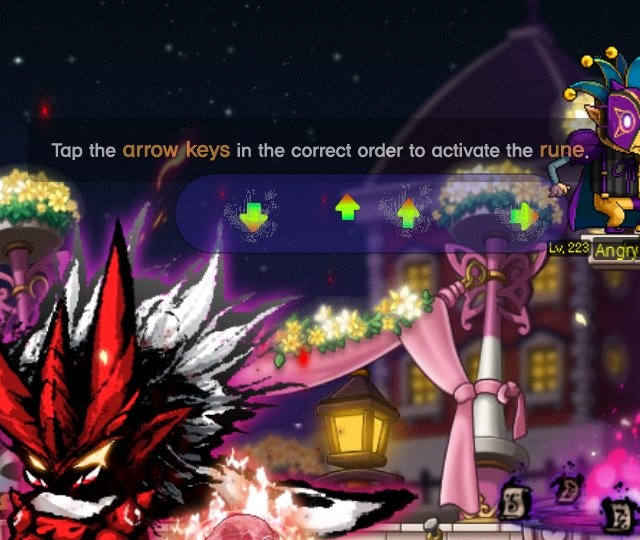down: (233, 195, 276, 241)
right: (501, 193, 546, 240)
up: (327, 189, 368, 229), (388, 193, 425, 236)
